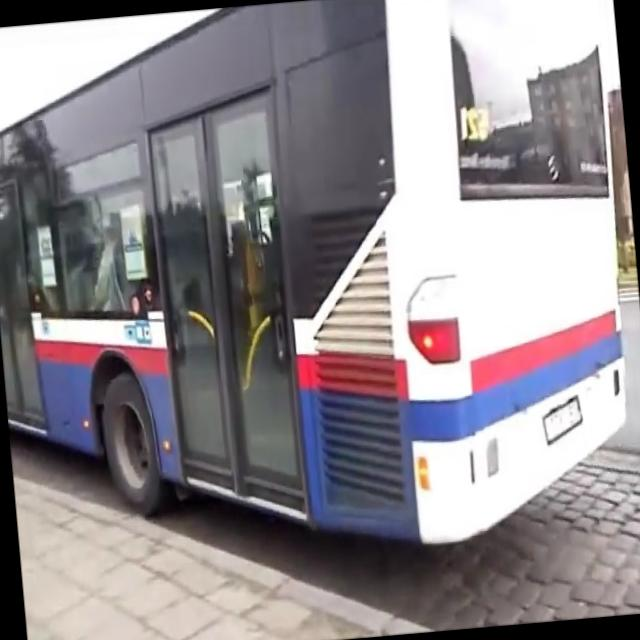bus-door: (150, 95, 304, 508)
